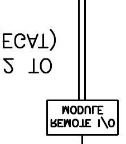remote_io_module: (46, 99, 119, 136)
